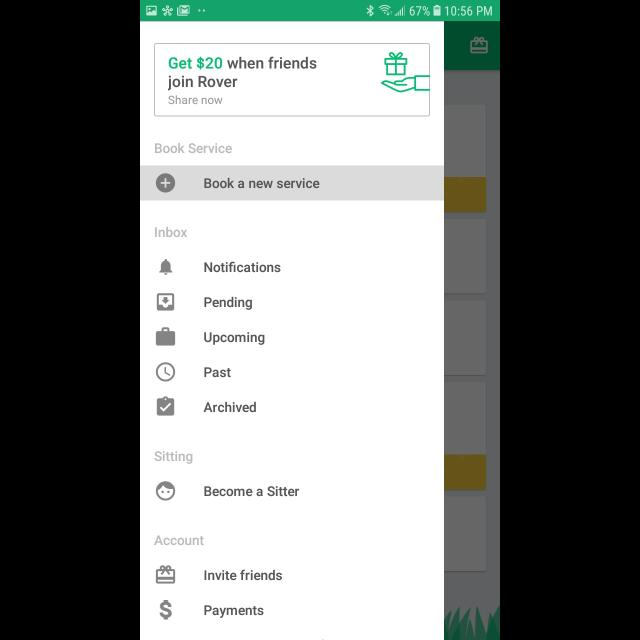icon: (380, 52, 430, 94), (156, 564, 176, 584), (156, 362, 176, 382), (156, 326, 176, 346), (156, 173, 176, 193), (157, 396, 175, 416), (157, 293, 175, 311), (160, 600, 172, 620), (159, 259, 173, 275)
image: (156, 481, 176, 501)
panel: (140, 22, 444, 640)
text: (169, 56, 317, 70), (204, 178, 320, 188), (168, 76, 238, 92), (204, 487, 300, 498), (156, 142, 232, 154), (203, 331, 264, 345), (204, 262, 282, 272), (205, 570, 283, 580), (204, 606, 264, 618), (205, 296, 253, 310), (204, 401, 256, 413), (154, 534, 204, 546), (154, 451, 193, 465), (169, 95, 223, 105), (156, 226, 188, 238), (204, 367, 232, 378)
uppertaskbar: (140, 1, 500, 22)
